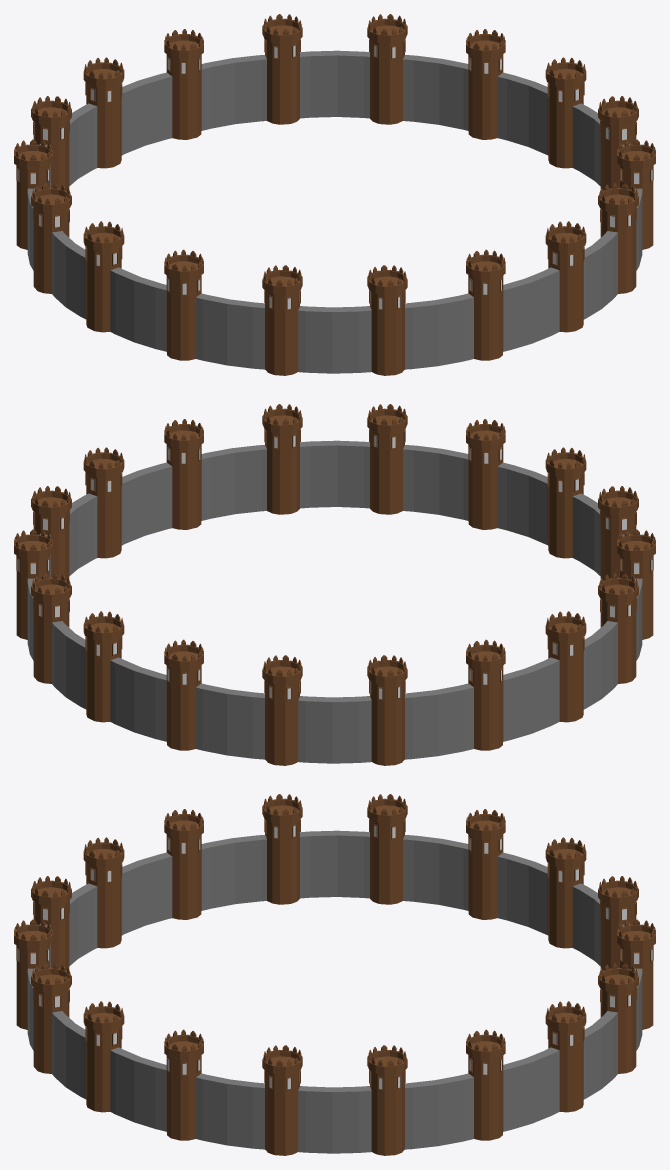
The model's file is MurallaSinRocas.fbx.
The picture shows the model from 3 angles, top to bottom: view 1: azimuth 30°, elevation 25°; view 2: azimuth 150°, elevation 25°; view 3: azimuth 270°, elevation 25°; orthographic projection.
Visible parts, largest first — view 1: Castillo, Castillo.001; view 2: Castillo, Castillo.001; view 3: Castillo, Castillo.001.
Boxes of the visible parts, bbox=[...] form: Castillo: bbox=[14, 14, 655, 375]; Castillo.001: bbox=[27, 50, 642, 373]; Castillo: bbox=[14, 404, 655, 765]; Castillo.001: bbox=[27, 440, 642, 763]; Castillo: bbox=[14, 794, 655, 1155]; Castillo.001: bbox=[27, 830, 642, 1153].
Size of the model in its own units: 21032 by 3500 by 21281.
